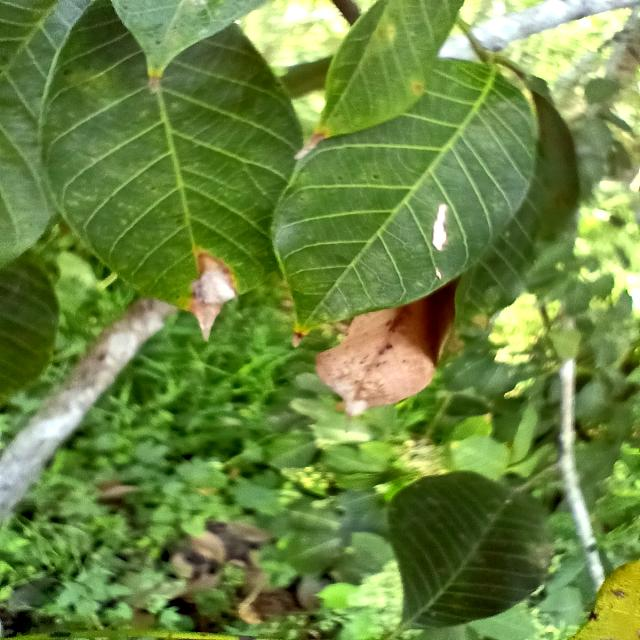Leaf-Blight: (184, 256, 237, 342), (294, 133, 326, 159), (434, 204, 447, 251)
